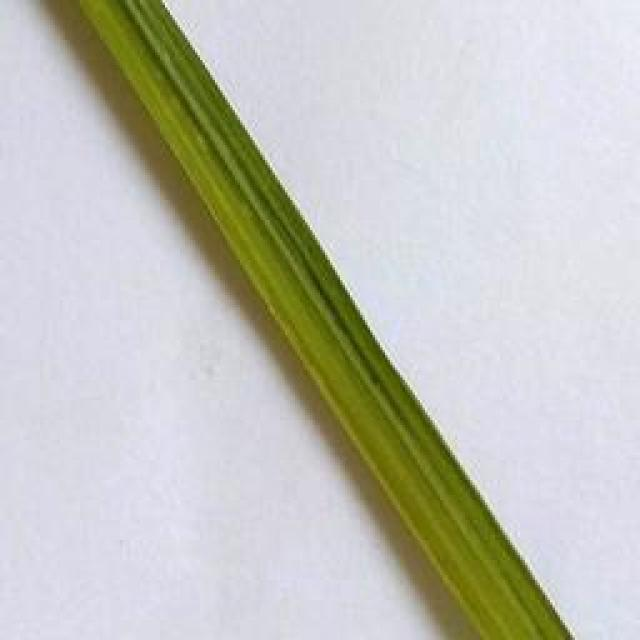Healthy-Plant: (75, 0, 571, 640)
